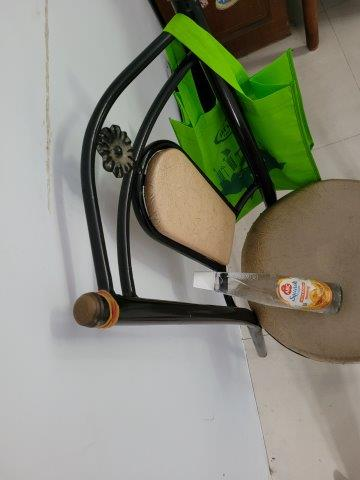botolkaca: (193, 270, 343, 316)
